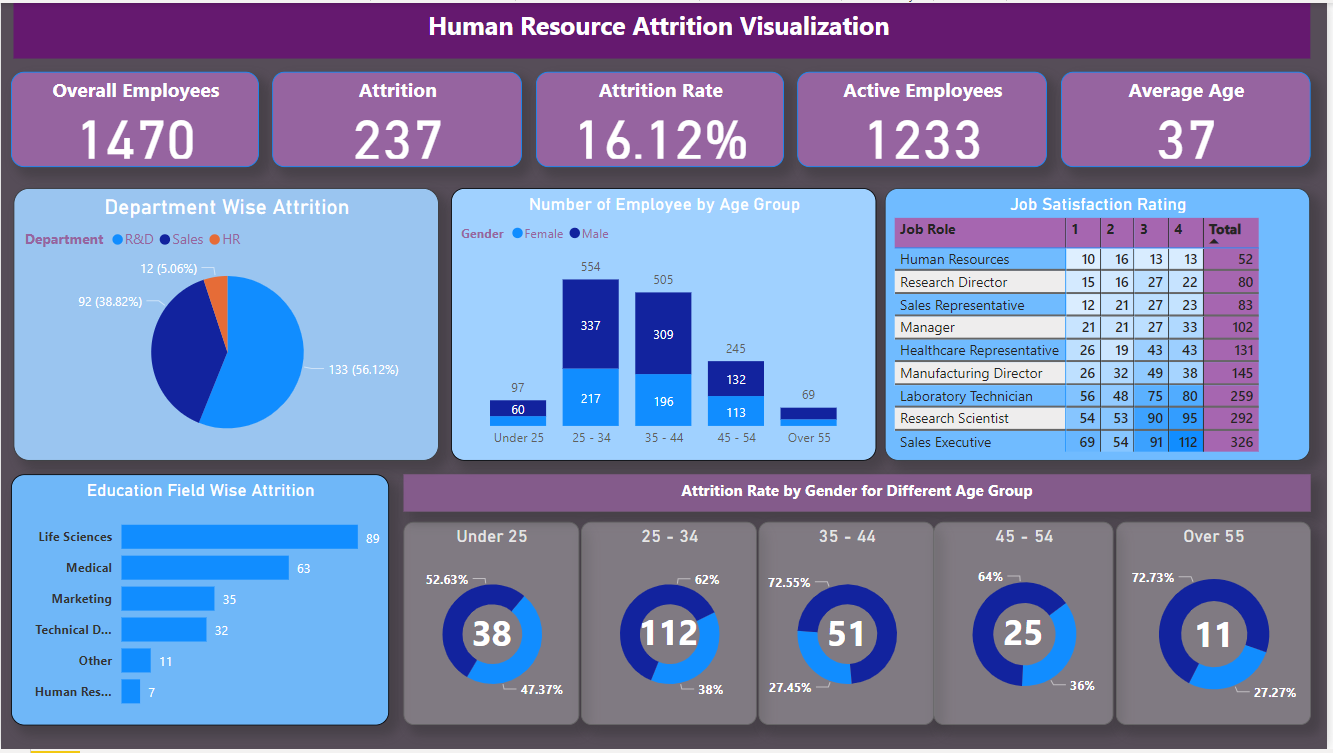

The dashboard page shown, as its layout file describes it:
{"tool":"powerbi","page":{"name":"Page 1","canvas":[1280,720],"ordinal":0},"visuals":[{"type":"card","title":"Overall Employees","fields":{"Values":["Sum(HR data.Employee Count)"]},"box":[9.7,66.8,239.3,91.8],"z":0},{"type":"card","title":"Attrition","fields":{"Values":["Sum(HR data.Attriction Count)"]},"box":[262.3,66.8,240.7,91.8],"z":1000},{"type":"card","title":"Attrition Rate","fields":{"Values":["HR data.Attrition Rate"]},"box":[516.2,66.8,239.3,91.8],"z":2000},{"type":"card","title":"Active Employees","fields":{"Values":["HR data.Active Employees"]},"box":[768.7,66.8,240.7,91.8],"z":3000},{"type":"card","title":"Average Age","fields":{"Values":["Avg(HR data.Age)"]},"box":[1022.6,66.8,240.7,91.8],"z":4000},{"type":"pieChart","title":"Department Wise Attrition","fields":{"Category":["HR data.Department"],"Y":["Sum(HR data.Attriction Count)"]},"box":[12.5,178.1,410.4,263],"z":5000},{"type":"columnChart","title":"Number of Employee by Age Group","fields":{"Category":["HR data.CF_age band"],"Y":["Sum(HR data.Employee Count)"],"Series":["HR data.Gender"]},"box":[434.1,178.1,410.4,263],"z":6000},{"type":"pivotTable","title":"Job Satisfaction Rating","fields":{"Rows":["HR data.Job Role"],"Columns":["HR data.Job Satisfaction"],"Values":["Sum(HR data.Employee Count)"]},"box":[852.9,178.1,410.4,263],"z":7000},{"type":"clusteredBarChart","title":"Education Field Wise Attrition ","fields":{"Category":["HR data.Education Field"],"Y":["Sum(HR data.Attriction Count)"]},"box":[9.7,455,364.5,242.1],"z":8000},{"type":"donutChart","title":"Under 25","fields":{"Category":["HR data.Gender"],"Y":["Sum(HR data.Attriction Count)"],"Series":["HR data.CF_age band"]},"box":[388.2,500.9,169.7,196.2],"z":9000},{"type":"textbox","box":[388.2,455,875.1,36.2],"z":10000},{"type":"donutChart","title":"25 - 34","fields":{"Category":["HR data.Gender"],"Y":["Sum(HR data.Attriction Count)"],"Series":["HR data.CF_age band"]},"box":[559.3,500.9,169.7,196.2],"z":11000},{"type":"donutChart","title":"35 - 44","fields":{"Category":["HR data.Gender"],"Y":["Sum(HR data.Attriction Count)"],"Series":["HR data.CF_age band"]},"box":[730.4,500.9,169.7,196.2],"z":12000},{"type":"donutChart","title":"45 - 54","fields":{"Category":["HR data.Gender"],"Y":["Sum(HR data.Attriction Count)"],"Series":["HR data.CF_age band"]},"box":[900.2,500.9,173.9,196.2],"z":13000},{"type":"donutChart","title":"Over 55","fields":{"Category":["HR data.Gender"],"Y":["Sum(HR data.Attriction Count)"],"Series":["HR data.CF_age band"]},"box":[1075.5,500.9,187.8,196.2],"z":14000},{"type":"textbox","box":[12.3,0,1251.3,53.2],"z":15000},{"type":"card","fields":{"Values":["Sum(HR data.Attriction Count)"]},"box":[437.7,576.3,71.4,63.1],"z":16000},{"type":"card","fields":{"Values":["Sum(HR data.Attriction Count)"]},"box":[603.8,569.5,79.6,75.5],"z":17000},{"type":"card","fields":{"Values":["Sum(HR data.Attriction Count)"]},"box":[752,564,127.6,87.8],"z":18000},{"type":"card","fields":{"Values":["Sum(HR data.Attriction Count)"]},"box":[922.1,540.7,127.6,133.1],"z":19000},{"type":"card","fields":{"Values":["Sum(HR data.Attriction Count)"]},"box":[1103.3,553,133.1,109.8],"z":20000}]}

Visuals, with their boxes in screenshot pixels (x1, y1, x2, y2), scaled from the page's 1280x720 canvas onto the 1333x753 screenshot:
"Overall Employees" card: 10,70,259,166
"Attrition" card: 273,70,524,166
"Attrition Rate" card: 538,70,787,166
"Active Employees" card: 801,70,1051,166
"Average Age" card: 1065,70,1316,166
"Department Wise Attrition" pieChart: 13,186,440,461
"Number of Employee by Age Group" columnChart: 452,186,879,461
"Job Satisfaction Rating" pivotTable: 888,186,1316,461
"Education Field Wise Attrition " clusteredBarChart: 10,476,390,729
"Under 25" donutChart: 404,524,581,729
textbox: 404,476,1316,514
"25 - 34" donutChart: 582,524,759,729
"35 - 44" donutChart: 761,524,937,729
"45 - 54" donutChart: 937,524,1119,729
"Over 55" donutChart: 1120,524,1316,729
textbox: 13,0,1316,56
card - Sum(HR data.Attriction Count): 456,603,530,669
card - Sum(HR data.Attriction Count): 629,596,712,675
card - Sum(HR data.Attriction Count): 783,590,916,682
card - Sum(HR data.Attriction Count): 960,565,1093,705
card - Sum(HR data.Attriction Count): 1149,578,1288,693
